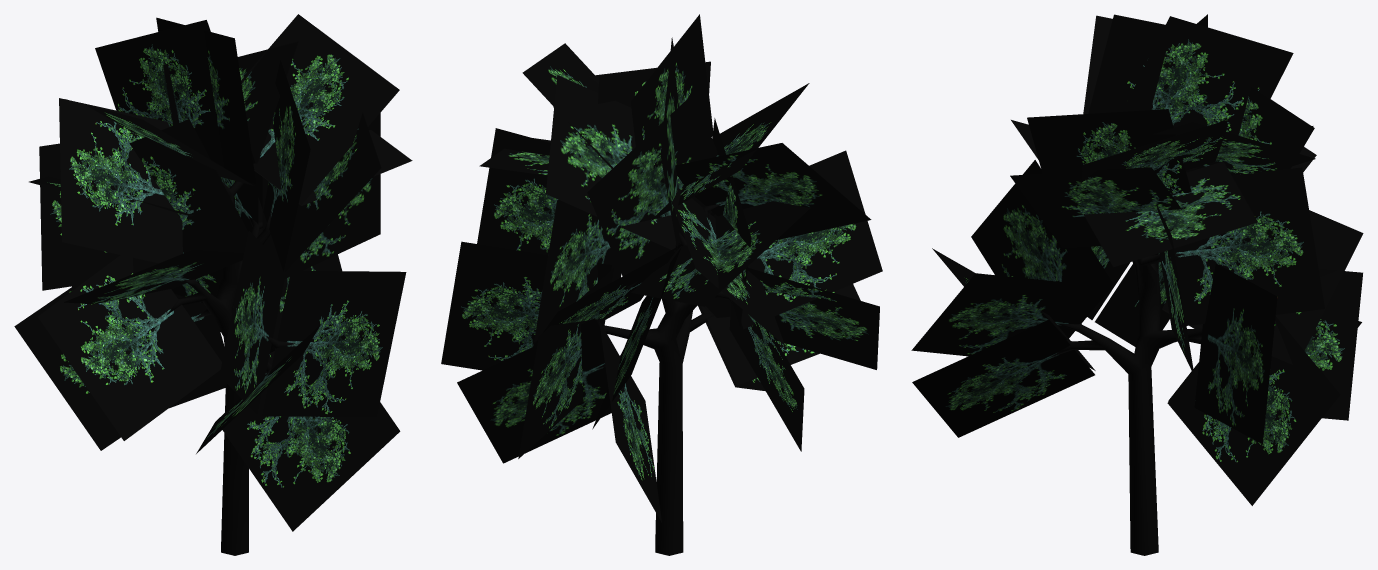
The model's file is tree60.glb.
3 renders of one model, left to right at view 1: azimuth 30°, elevation 25°; view 2: azimuth 150°, elevation 25°; view 3: azimuth 270°, elevation 25°, orthographic.
Size of the model in its own units: 5.11 by 6.85 by 5.33.
Materials: 2 (1 with a texture image).
